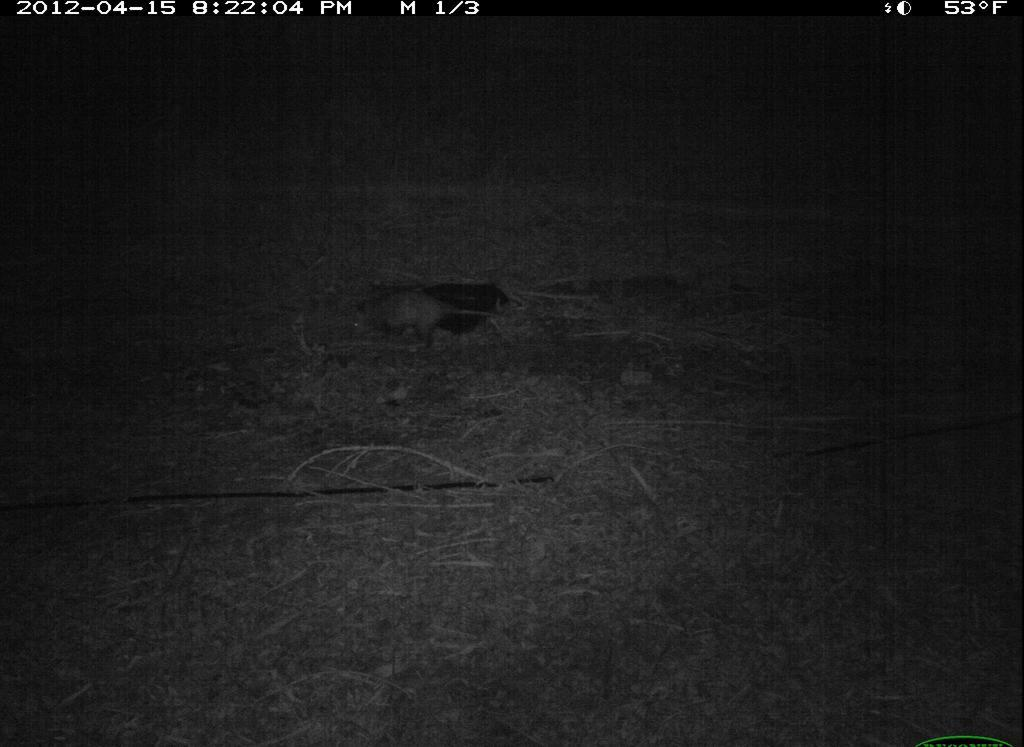opossum: (347, 280, 518, 354)
